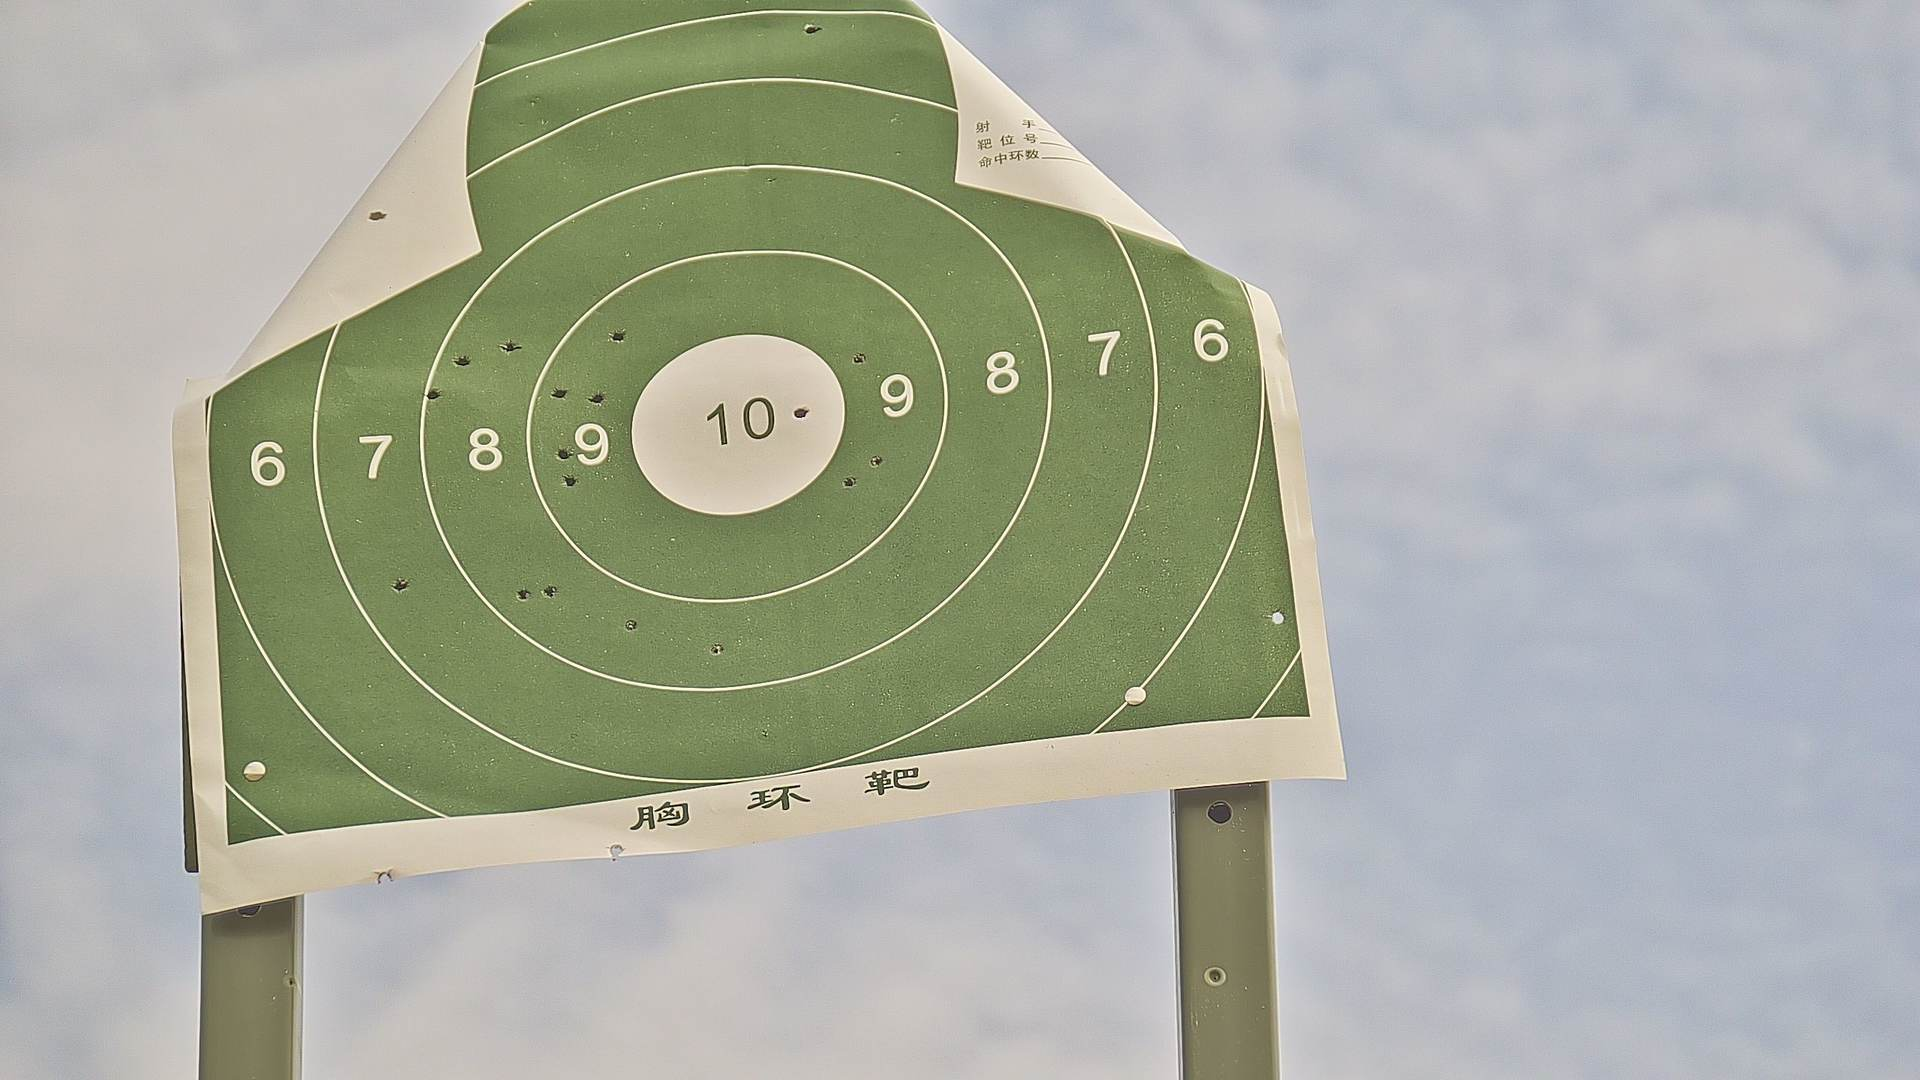hole: (1270, 608, 1284, 626), (454, 353, 473, 367), (613, 326, 629, 342), (794, 405, 810, 419), (425, 385, 440, 400), (872, 452, 885, 469), (844, 473, 858, 488), (556, 444, 570, 460), (501, 342, 518, 353), (804, 22, 819, 36), (564, 473, 578, 488), (394, 579, 407, 593), (553, 388, 568, 400), (709, 644, 724, 655), (593, 390, 605, 405), (852, 353, 868, 364), (545, 583, 556, 596), (517, 588, 530, 600), (622, 618, 637, 629)
kernel: (732, 417, 733, 423)
target: (206, 3, 1313, 852)
ten: (633, 331, 847, 518)
